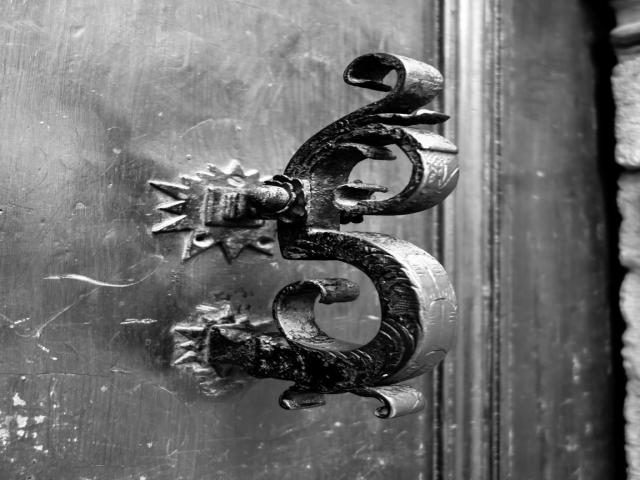Door-handle: (149, 51, 456, 421)
